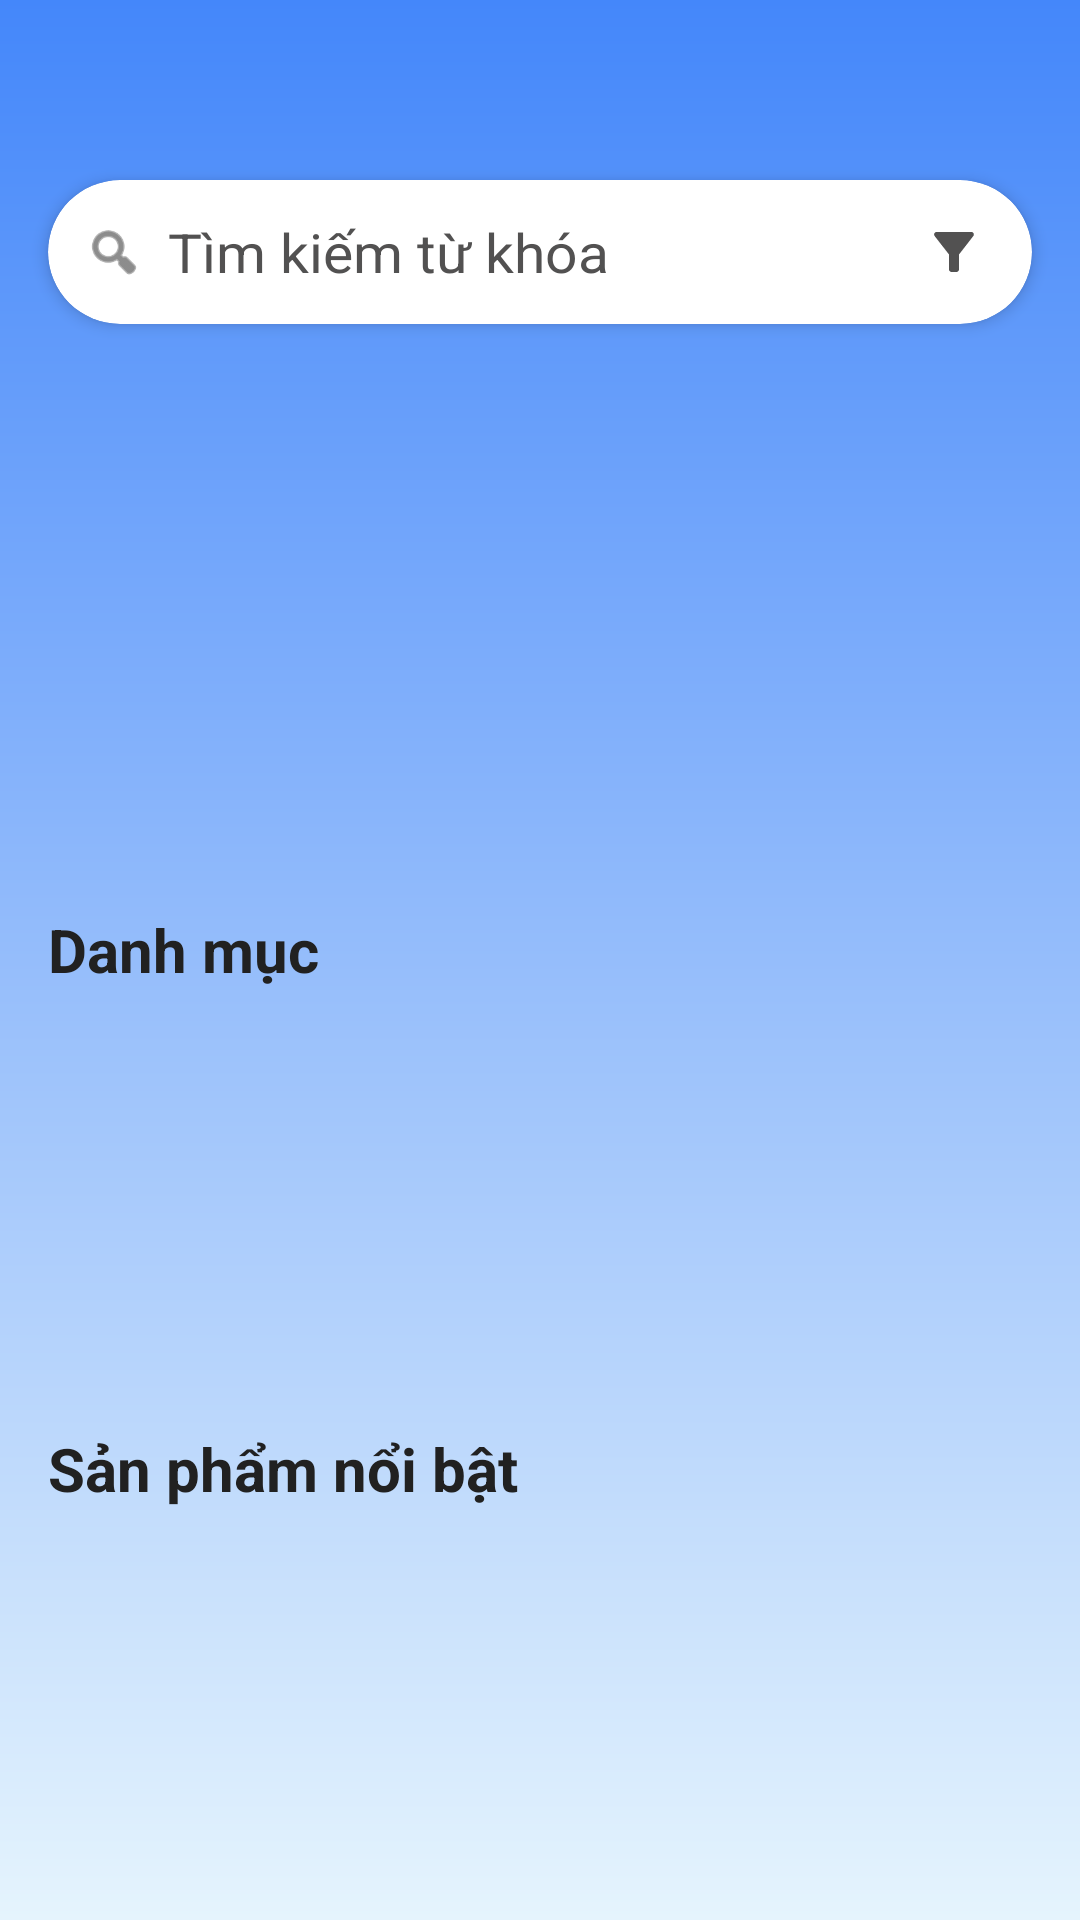

Screen size 1080*1920. Icon name, then its center in pixels as point (x, y):
Bộ lọc: point (954, 252)
search: point (114, 252)
